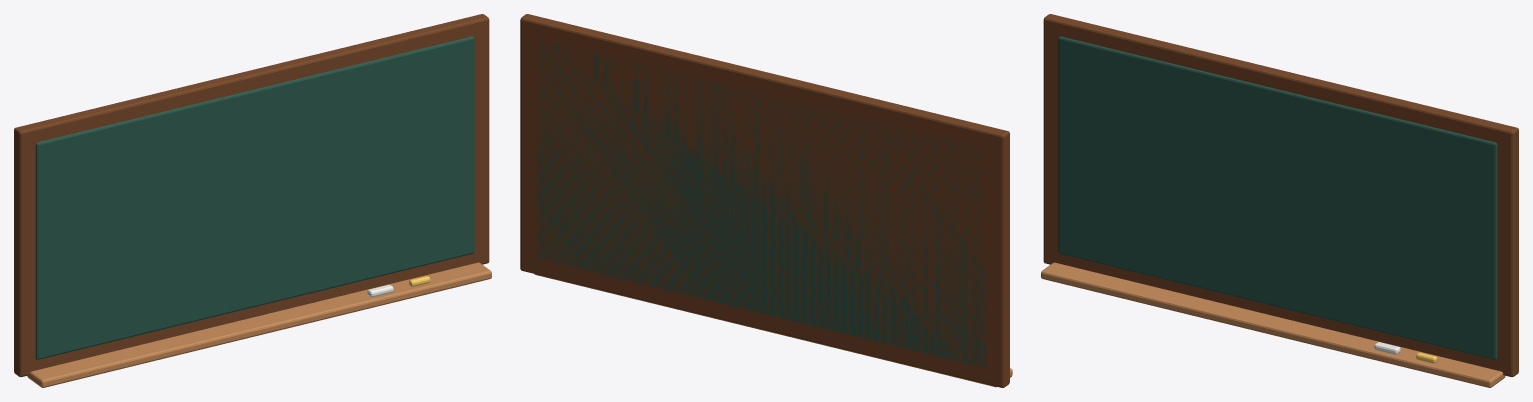
Rendered from chalkboard.glb.
3 views of the same model, side by side, from view 1: azimuth 30°, elevation 25°; view 2: azimuth 150°, elevation 25°; view 3: azimuth 330°, elevation 25° (orthographic). The views are drawn at different scales.
Parts seen in each view (by area): view 1: chalkboard; view 2: chalkboard; view 3: chalkboard.
Boxes of the visible parts, <box> form: chalkboard: <box>14,14,491,387</box>; chalkboard: <box>520,14,1012,387</box>; chalkboard: <box>1041,14,1518,387</box>.
Bounding box in the file's own units: 2.4 × 1.22 × 0.17.
